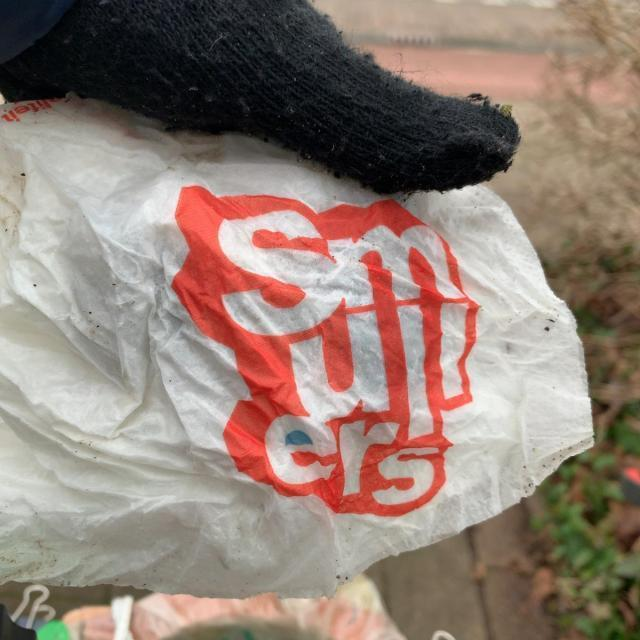Paper: (0, 85, 599, 601)
